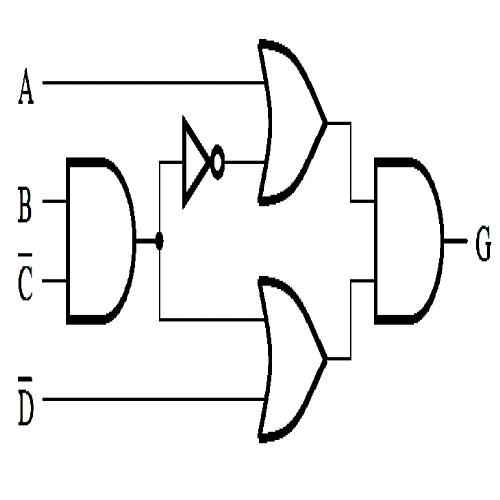and: (62, 145, 142, 330), (370, 146, 449, 332)
not: (178, 106, 228, 217)
or: (252, 29, 332, 215), (252, 267, 332, 451)
